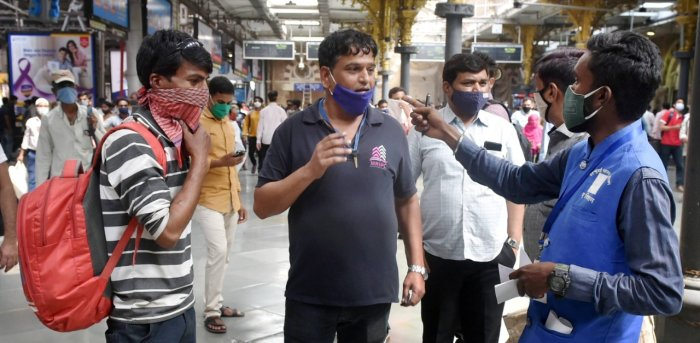with_incorrect_mask: (343, 58, 376, 106)
with_mask: (176, 70, 208, 122), (458, 77, 486, 112), (213, 94, 232, 121)
